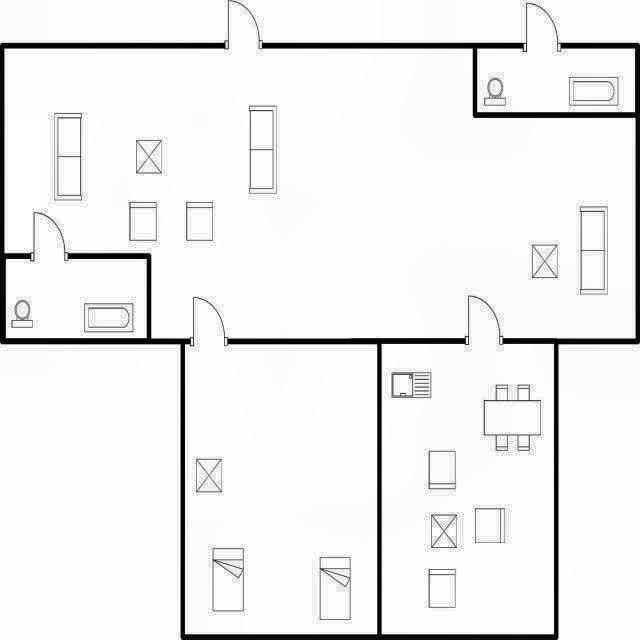room: (4, 49, 636, 339), (185, 344, 377, 634), (382, 344, 554, 634), (6, 259, 147, 338), (477, 48, 635, 112)
